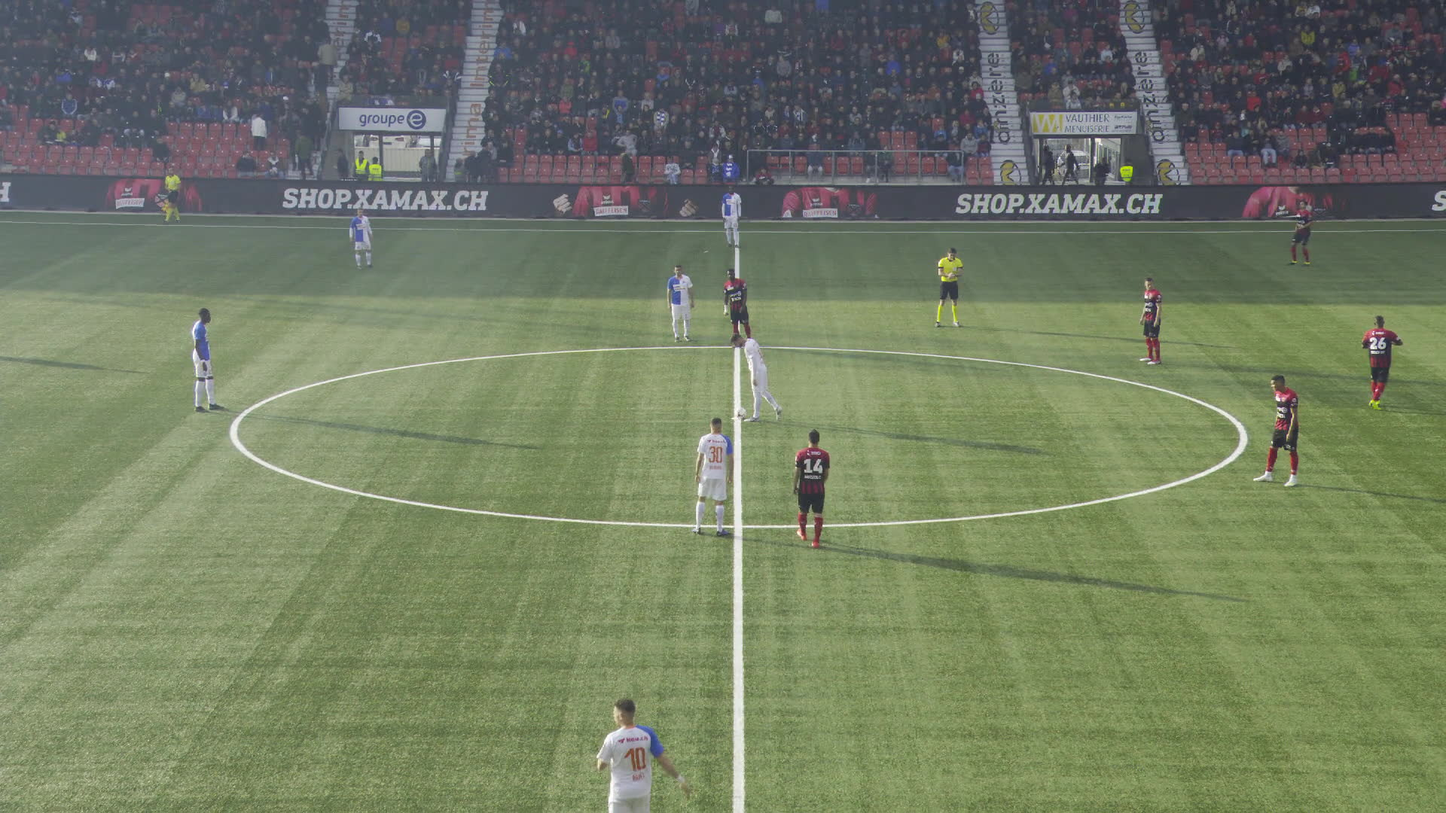ball: (734, 407, 746, 419)
player: (595, 697, 690, 811), (1252, 375, 1299, 486), (692, 416, 733, 535), (730, 333, 783, 420), (791, 428, 828, 547), (1361, 315, 1402, 410), (191, 307, 224, 410), (667, 264, 694, 342), (722, 268, 750, 343), (1139, 277, 1161, 364), (1287, 198, 1312, 266), (349, 207, 372, 269), (721, 184, 741, 247)
referee: (934, 247, 962, 327), (161, 166, 181, 224)
